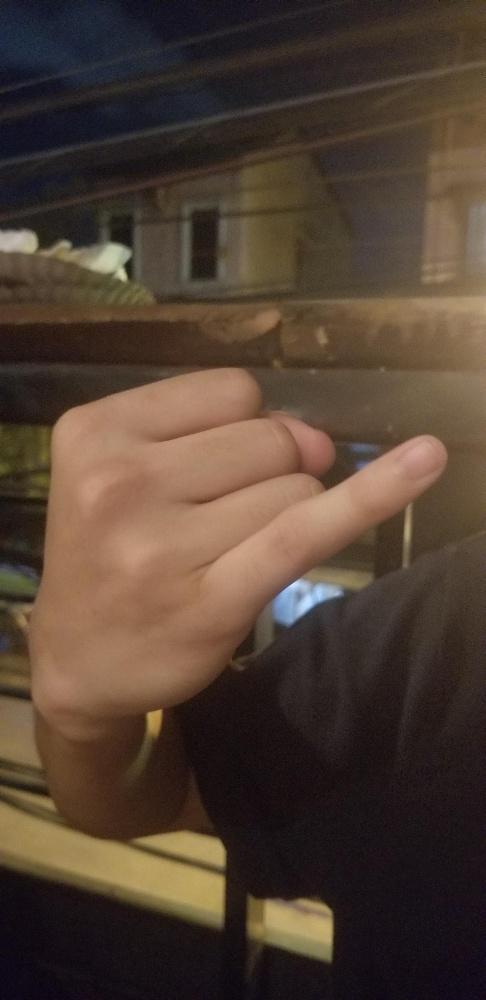j: (29, 353, 449, 714)
